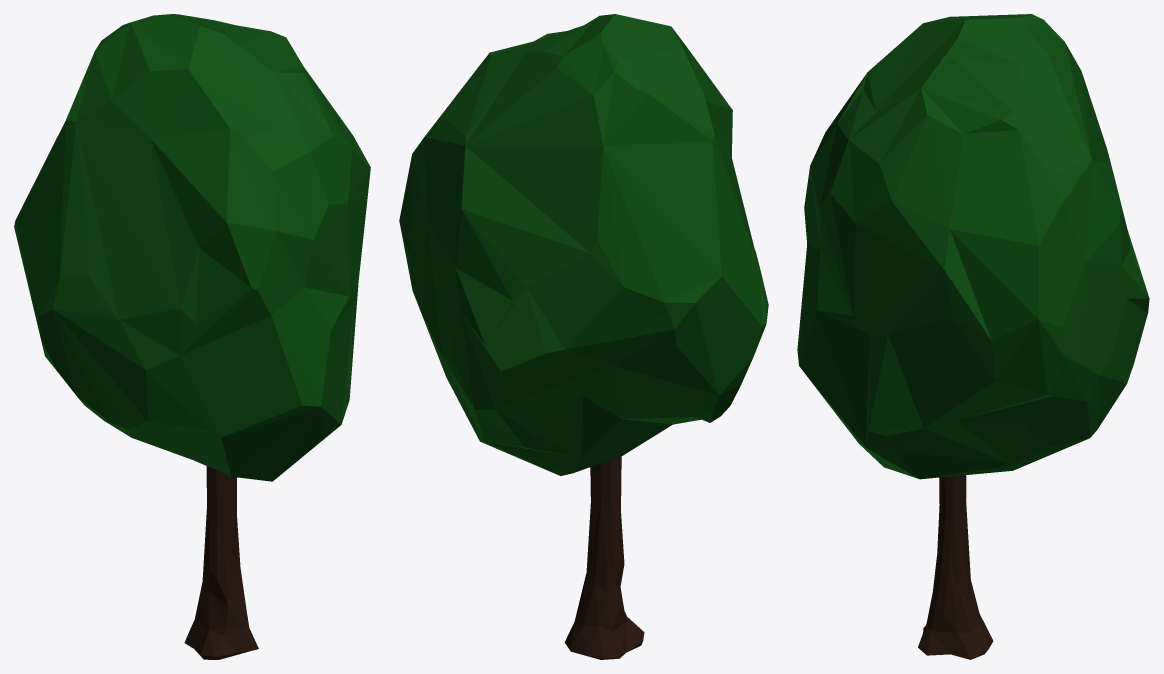
File: SM_tree_12.fbx
The picture shows the model from 3 angles, left to right: view 1: azimuth 30°, elevation 25°; view 2: azimuth 150°, elevation 25°; view 3: azimuth 270°, elevation 25°; orthographic projection. The views are drawn at different scales.
Parts seen in each view (by area): view 1: tree_12; view 2: tree_12; view 3: tree_12.
Boxes of the visible parts, <box> form: tree_12: <box>14,14,370,659</box>; tree_12: <box>399,14,768,659</box>; tree_12: <box>797,14,1149,659</box>.
Size of the model in its own units: 564 by 1026 by 527.
